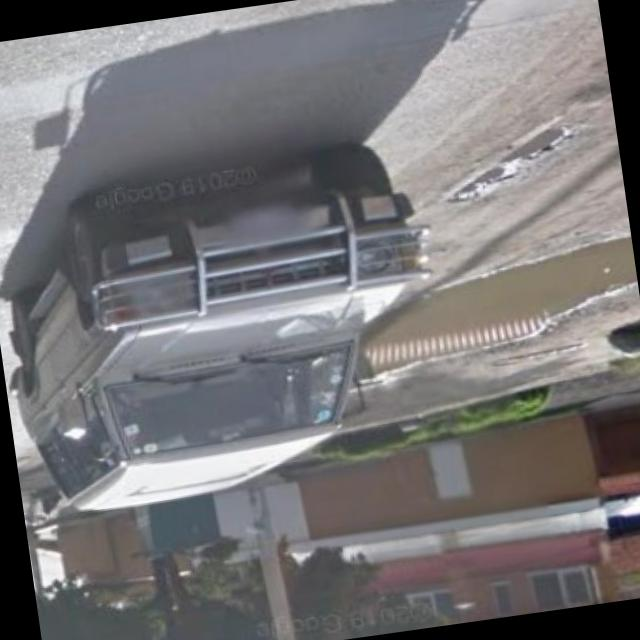car: (0, 148, 466, 510)
